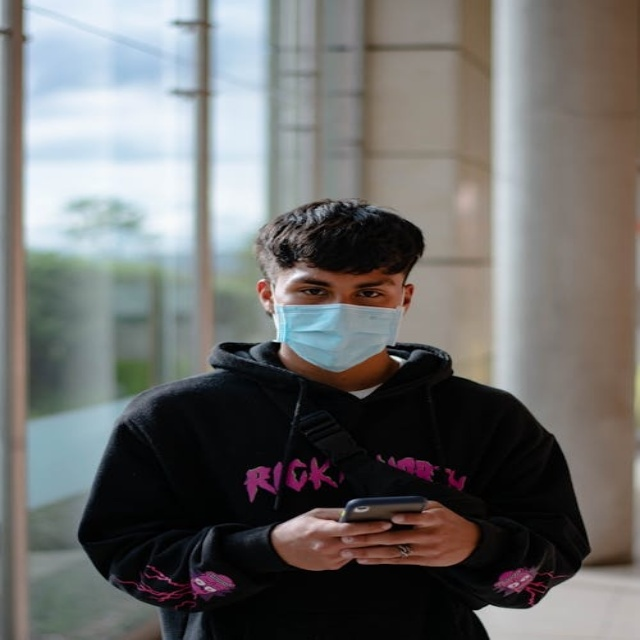Mascara: (271, 295, 405, 371)
Sin_gafas: (284, 276, 393, 305)
Sin_guantes: (318, 499, 475, 569)
